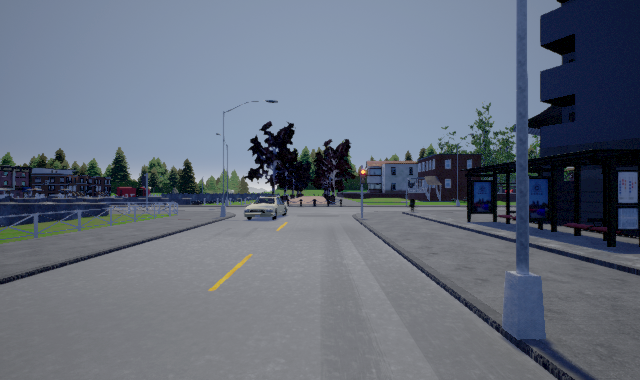traffic_light: (360, 167, 365, 187)
vehicle: (244, 197, 288, 220)
